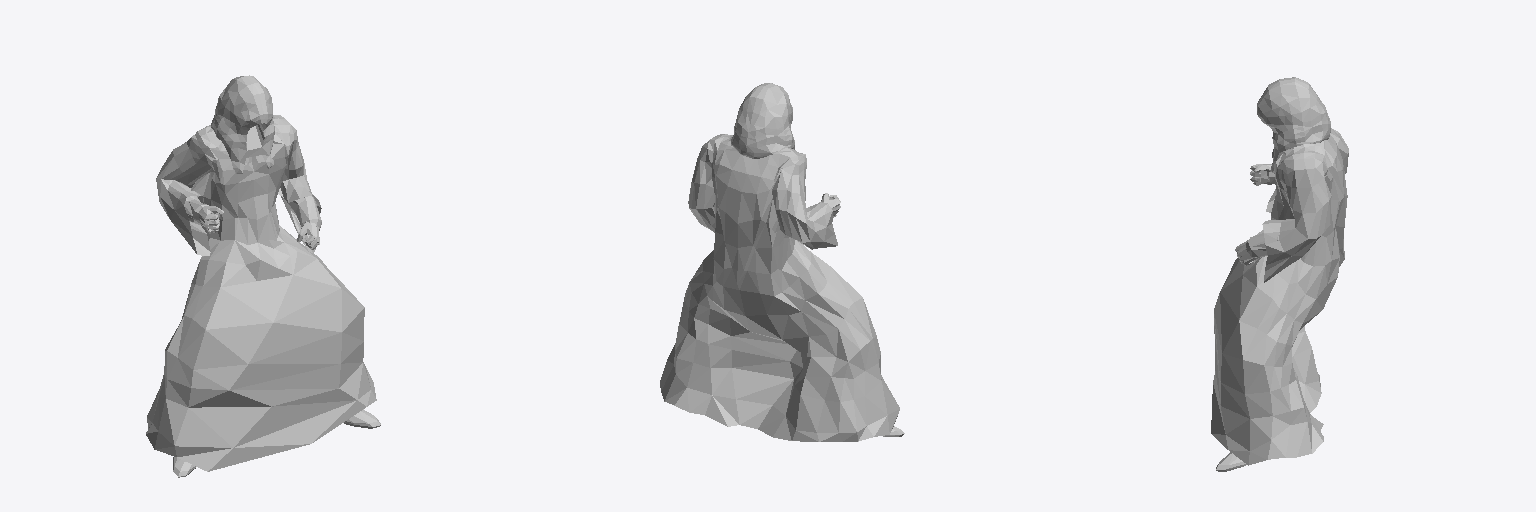
File: Fellbeast_Animate_Flying_37.obj
3 views of the same model, side by side, from view 1: azimuth 30°, elevation 25°; view 2: azimuth 150°, elevation 25°; view 3: azimuth 270°, elevation 25° (orthographic).
Visible parts, largest first — view 1: dm_nazgulrobe_ride_241108; view 2: dm_nazgulrobe_ride_241108; view 3: dm_nazgulrobe_ride_241108.
Part boxes in pixels (bbox=[...]): dm_nazgulrobe_ride_241108: bbox=[146, 75, 380, 477]; dm_nazgulrobe_ride_241108: bbox=[660, 83, 904, 441]; dm_nazgulrobe_ride_241108: bbox=[1211, 77, 1348, 471].
Bounding box in the file's own units: 0.442 × 0.6641 × 0.2368.